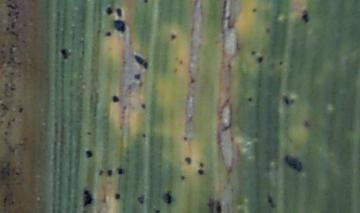tarspot: (283, 153, 303, 174), (133, 53, 149, 71), (112, 18, 127, 35), (82, 188, 93, 207), (267, 194, 276, 210), (300, 9, 310, 23), (281, 94, 292, 106), (163, 192, 173, 204), (207, 197, 214, 213), (60, 48, 69, 60), (302, 118, 311, 129), (137, 193, 145, 205), (115, 7, 123, 19), (84, 149, 93, 158), (184, 156, 192, 166), (106, 5, 113, 16), (112, 94, 120, 103), (169, 33, 178, 41), (265, 24, 271, 34), (17, 106, 24, 114), (105, 31, 113, 38), (277, 58, 284, 66), (114, 193, 121, 200), (250, 7, 257, 14), (98, 169, 104, 177), (117, 167, 123, 175), (153, 207, 161, 213), (134, 74, 142, 80), (247, 95, 253, 103), (257, 56, 263, 64), (183, 134, 188, 143), (216, 202, 220, 213), (107, 169, 113, 176), (197, 169, 204, 175), (250, 49, 256, 56), (141, 132, 147, 138), (141, 103, 147, 109), (85, 130, 92, 135), (180, 174, 185, 181), (199, 162, 204, 168), (142, 1, 149, 5)
